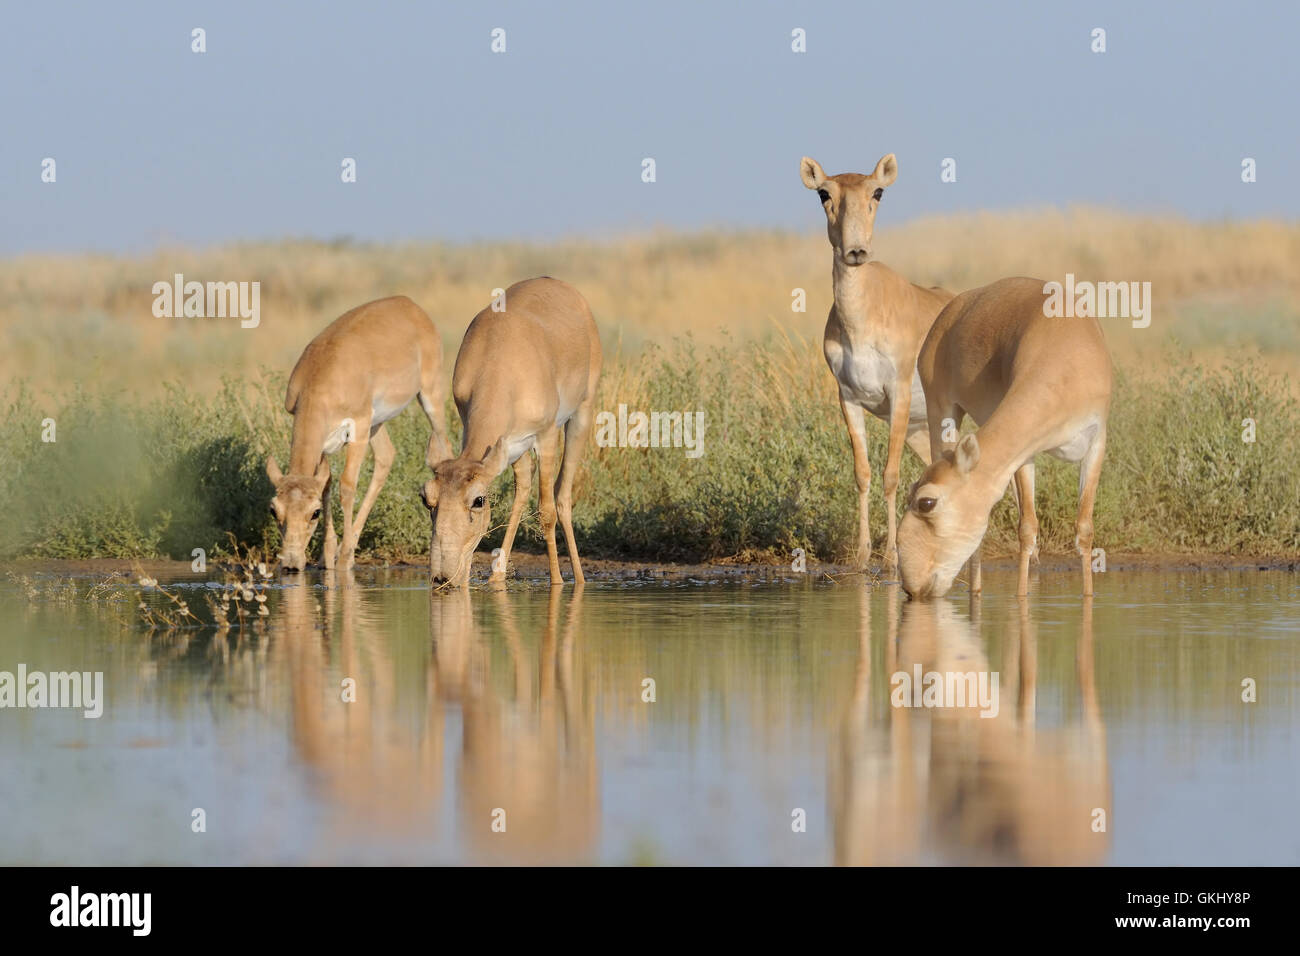saiga: (791, 146, 979, 565), (900, 256, 1117, 599), (395, 280, 605, 596), (264, 293, 444, 588)
